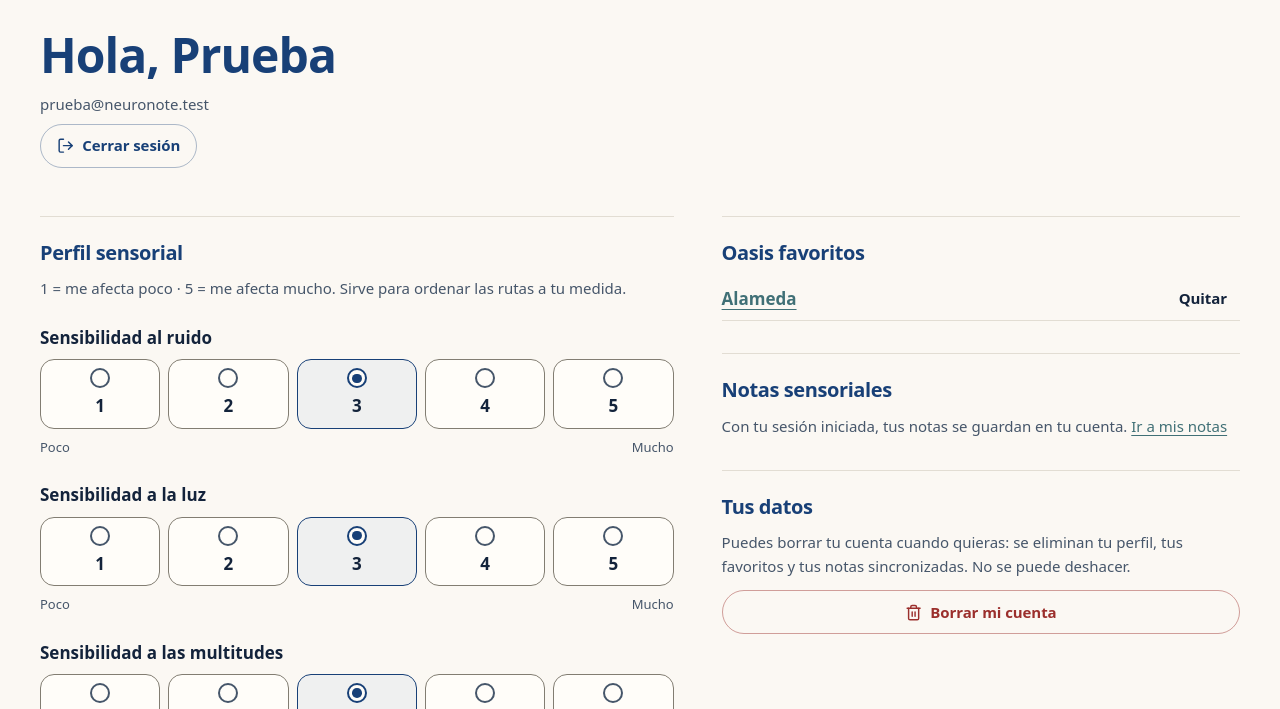
it: Cuentas (API) › perfil: guarda el perfil sensorial, quita favoritos y pide confirmación para borrar la cuenta
What coordinates should you click on to do the following:
click the 1st radio button labelled "5"
I would click on:
 (613, 378)
Its box is left=603, top=368, right=623, bottom=388.
(page scrolled)
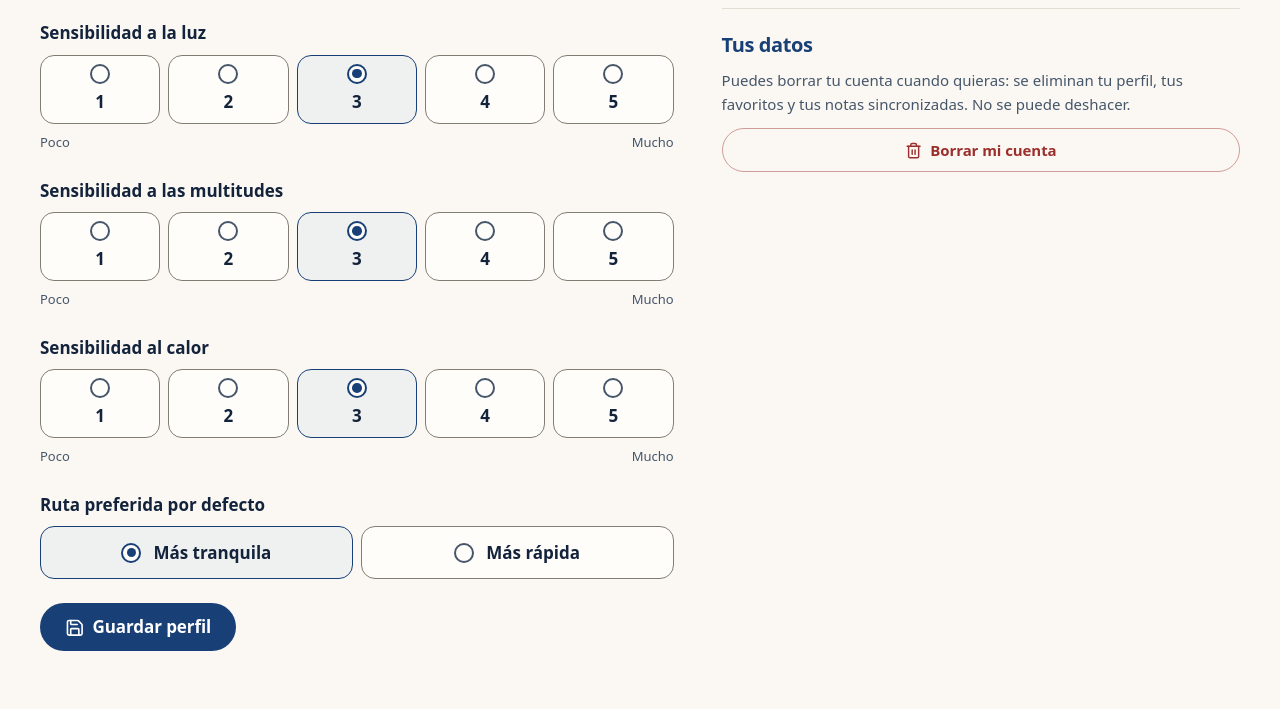
What coordinates should you click on to do the following:
click the button "Guardar perfil"
I would click on:
 (138, 627)
Its box is left=40, top=603, right=236, bottom=651.
(page scrolled)
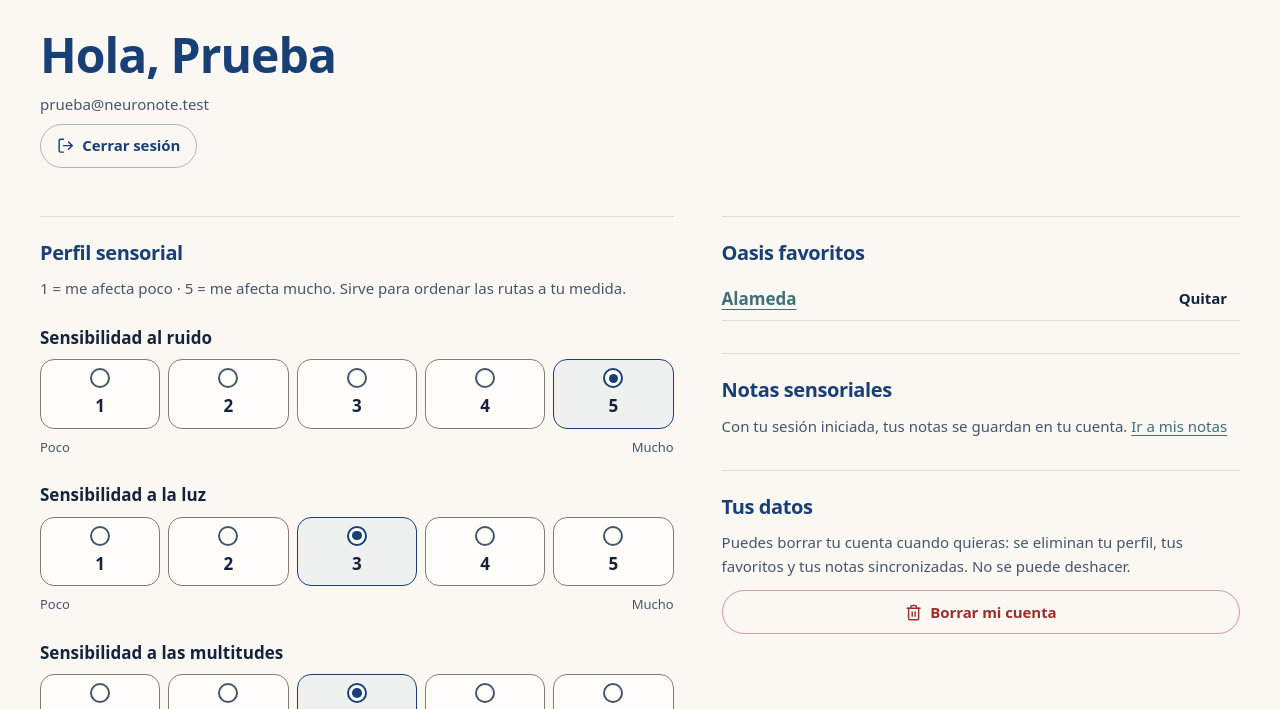
What coordinates should you click on to do the following:
click the button with aria-label "Quitar Alameda de favoritos"
I would click on:
 (1203, 298)
Its box is left=1166, top=276, right=1240, bottom=320.
(page scrolled)
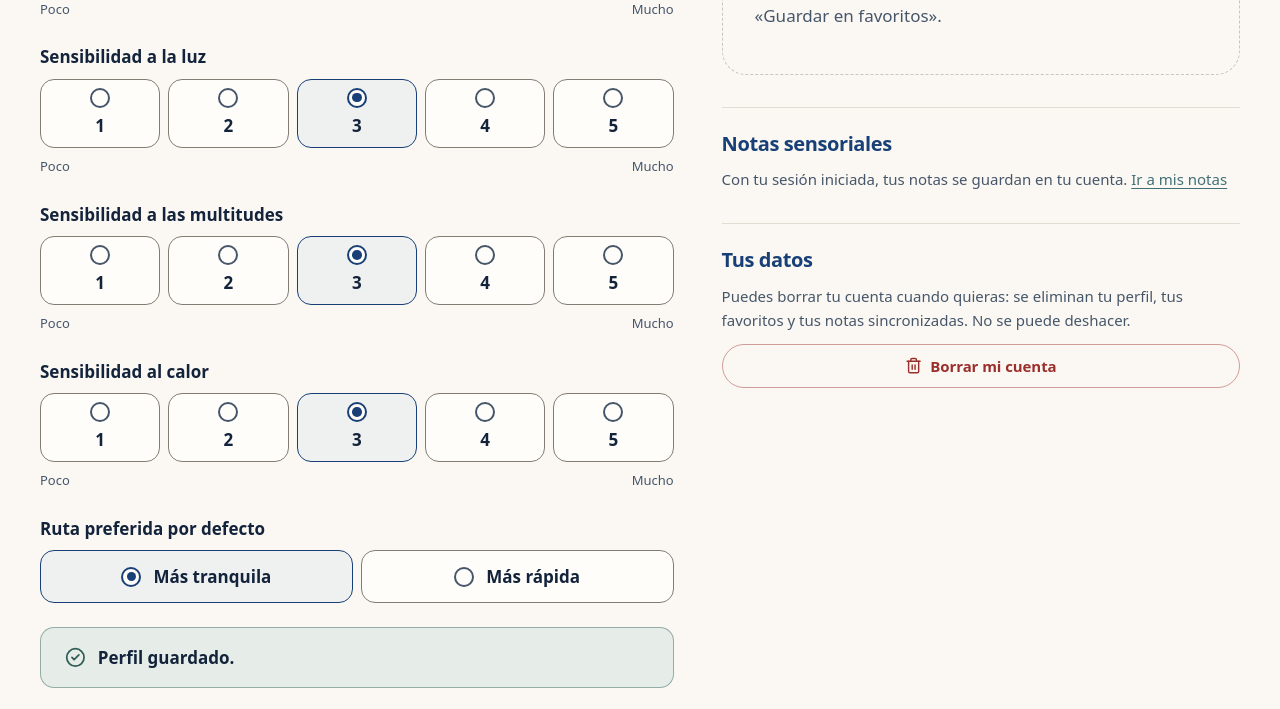
What coordinates should you click on to do the following:
click the button "Borrar mi cuenta"
I would click on:
 (981, 366)
Its box is left=722, top=344, right=1240, bottom=388.
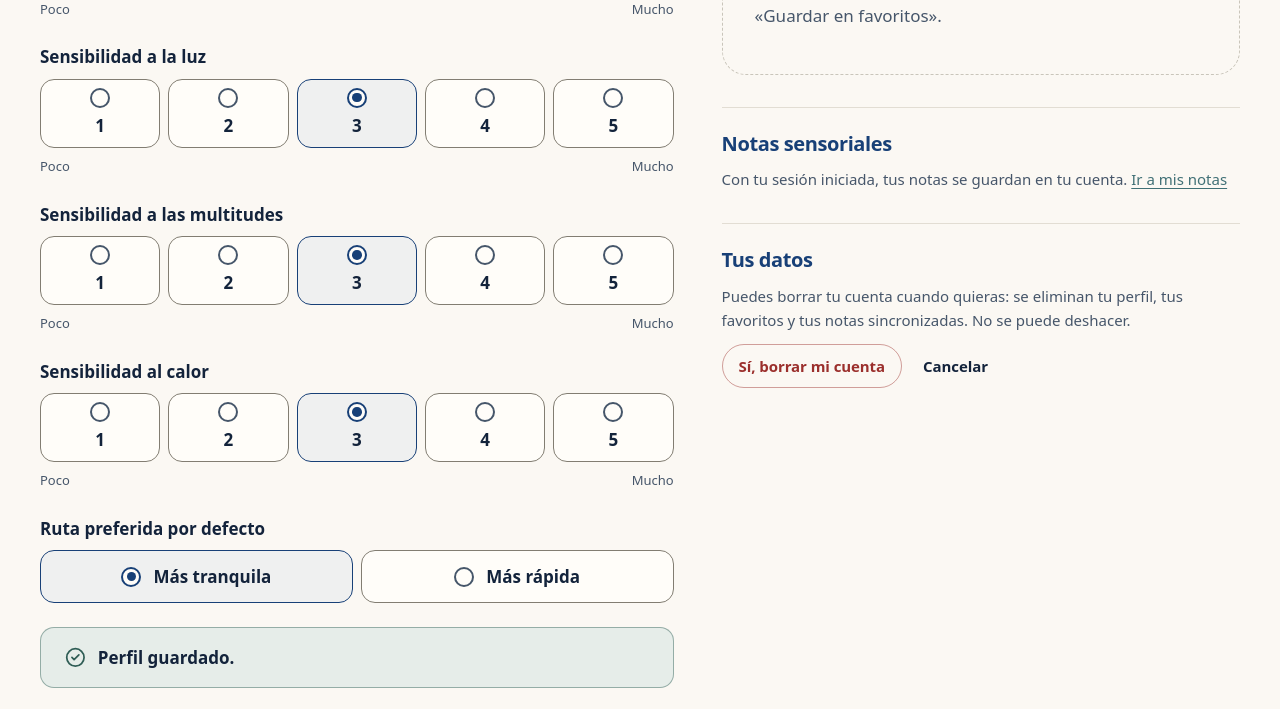
Check: the button "Sí, borrar mi cuenta" is shown, box left=722, top=344, right=902, bottom=388
